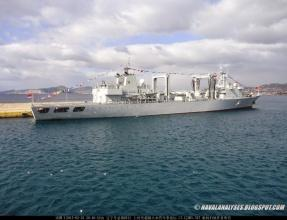warship: (23, 65, 262, 122)
